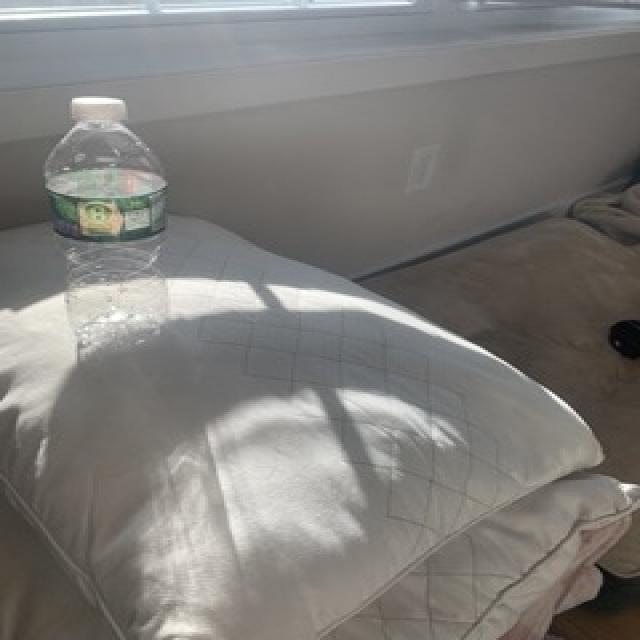water_bottle: (38, 92, 178, 354)
